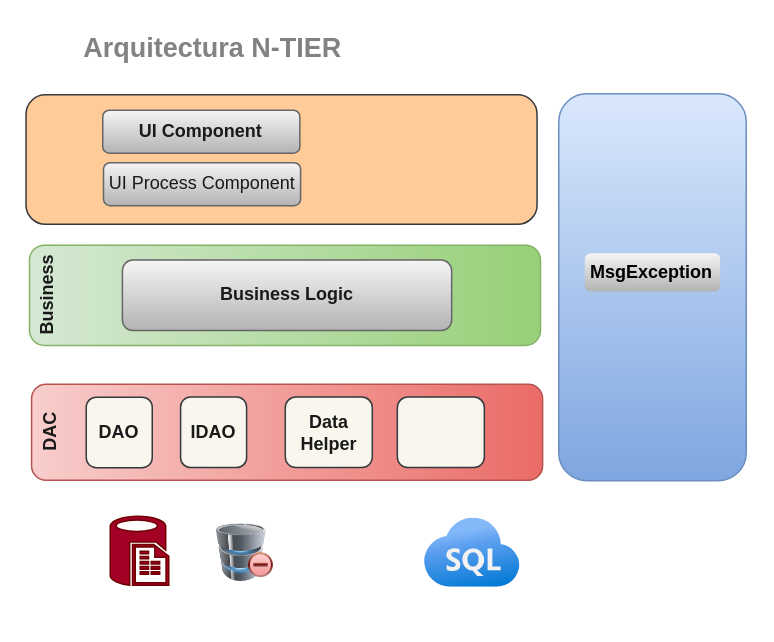
Some shapes in this 774 by 642 pixel diagram are drawn without their labels. Here are the shapes that lost their labels. From the top down, the box of each, then its label:
(24, 93, 537, 224): User Interface
(557, 92, 746, 481): Framework
(396, 396, 484, 468): DTO
(109, 515, 169, 585): SQLITE
(216, 523, 273, 582): database
